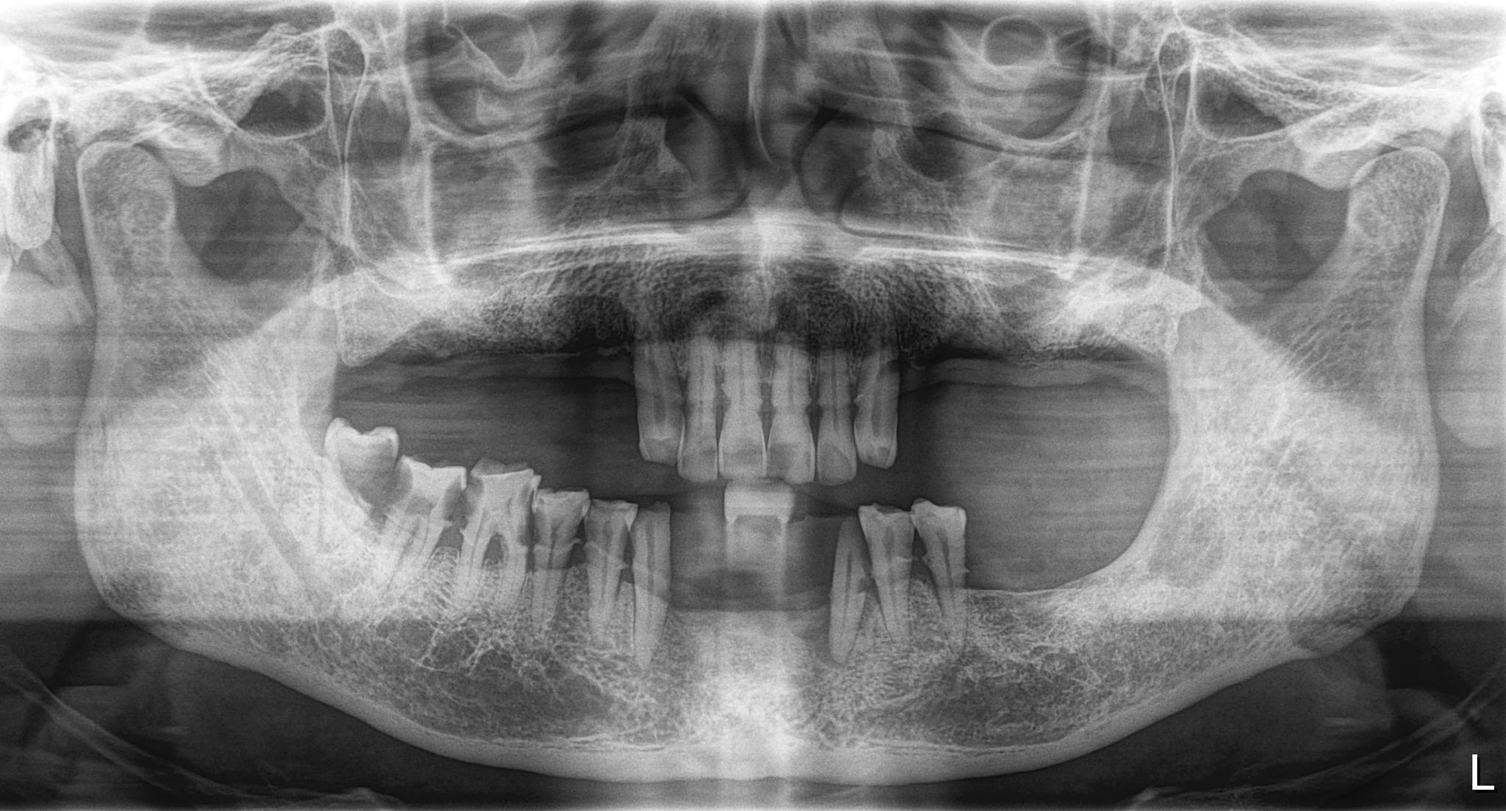Dental Caries: (724, 446, 770, 476), (774, 450, 807, 471)
Impacted Third Molar: (316, 421, 401, 521)
Missing Tooth: (664, 525, 708, 655), (767, 520, 808, 658), (1050, 500, 1095, 609), (715, 522, 752, 652), (1101, 338, 1149, 438), (322, 314, 371, 402), (963, 512, 1005, 614), (1044, 345, 1086, 446), (1109, 498, 1155, 589), (1009, 512, 1052, 605), (950, 338, 988, 441), (550, 320, 593, 410), (410, 321, 457, 402), (991, 338, 1027, 439), (511, 314, 546, 407), (379, 320, 414, 399), (914, 345, 943, 439), (467, 320, 498, 407)
Periapical Lesion: (836, 562, 883, 620)
Periodontal Pocket: (750, 342, 779, 442), (438, 518, 470, 587), (482, 540, 514, 599), (711, 367, 735, 436), (805, 382, 829, 446)
